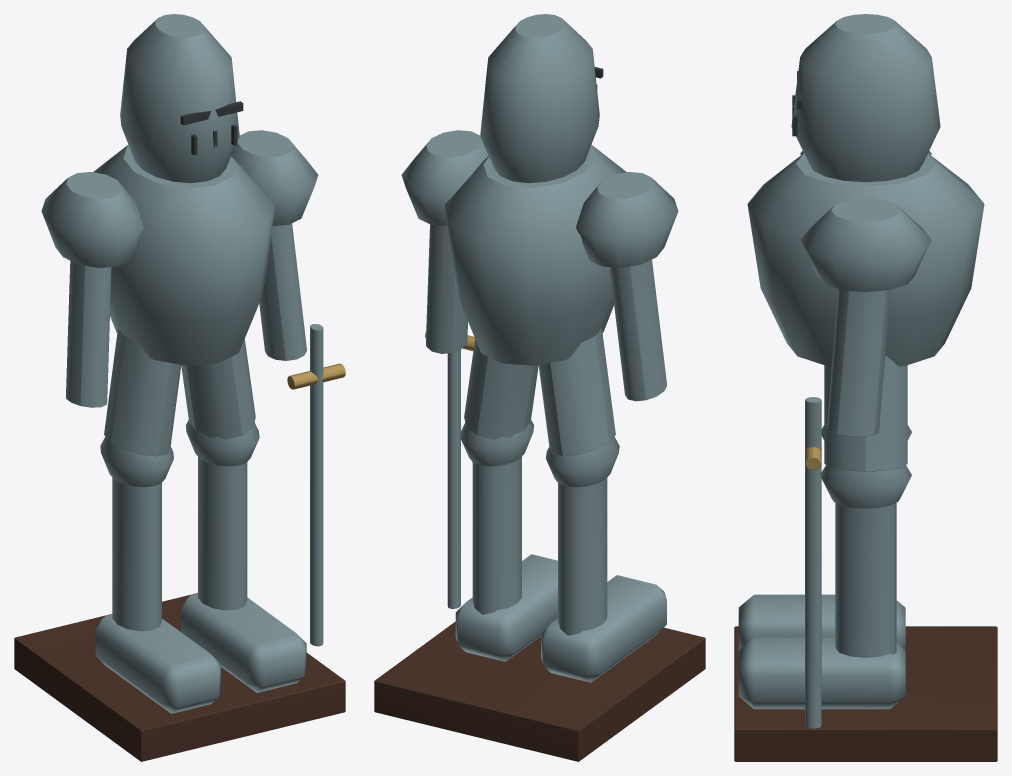
File: rpg-mansion-armour-01.glb
3 renders of one model, left to right at view 1: azimuth 30°, elevation 25°; view 2: azimuth 150°, elevation 25°; view 3: azimuth 270°, elevation 25°, orthographic. The views are drawn at different scales.
Visible parts, largest first — view 1: rpg-mansion-armour-01; view 2: rpg-mansion-armour-01; view 3: rpg-mansion-armour-01.
Boxes of the visible parts, x1,y1,x2,y2 form: rpg-mansion-armour-01: (14,14,345,761); rpg-mansion-armour-01: (374,14,705,761); rpg-mansion-armour-01: (734,14,997,761).
Size of the model in its own units: 0.78 by 1.87 by 0.65.
